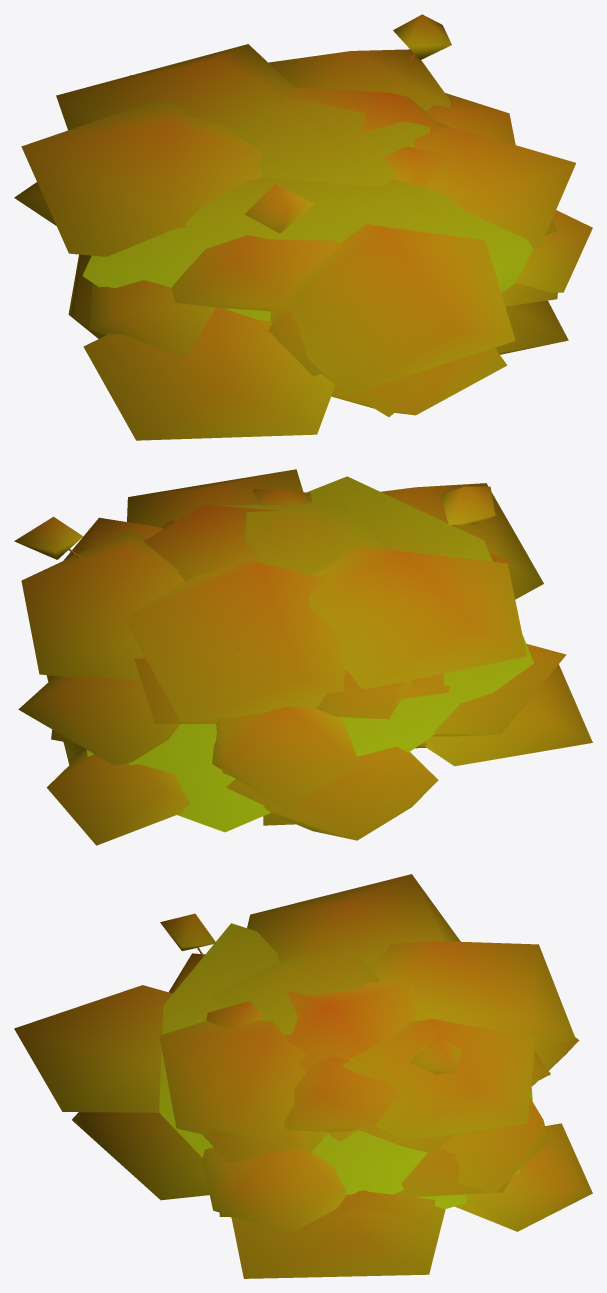
The model's file is sage.glb.
The picture shows the model from 3 angles, top to bottom: view 1: azimuth 30°, elevation 25°; view 2: azimuth 150°, elevation 25°; view 3: azimuth 270°, elevation 25°; orthographic projection. The views are drawn at different scales.
Visible parts, largest first — view 1: v1, v0, v2, v3; view 2: v1, v0, v3, v2; view 3: v1, v0, v3, v2.
Boxes of the visible parts, x1,y1,x2,y2 form: v1: [14, 49, 592, 440]; v0: [56, 44, 568, 415]; v2: [130, 14, 557, 376]; v3: [367, 121, 575, 416]; v1: [21, 476, 592, 845]; v0: [46, 505, 566, 840]; v3: [18, 469, 303, 765]; v2: [14, 486, 495, 825]; v1: [14, 874, 592, 1232]; v0: [72, 941, 575, 1278]; v3: [159, 1020, 548, 1231]; v2: [160, 913, 550, 1217].
Bounding box in the file's own units: 20.99 × 12.14 × 24.09.
